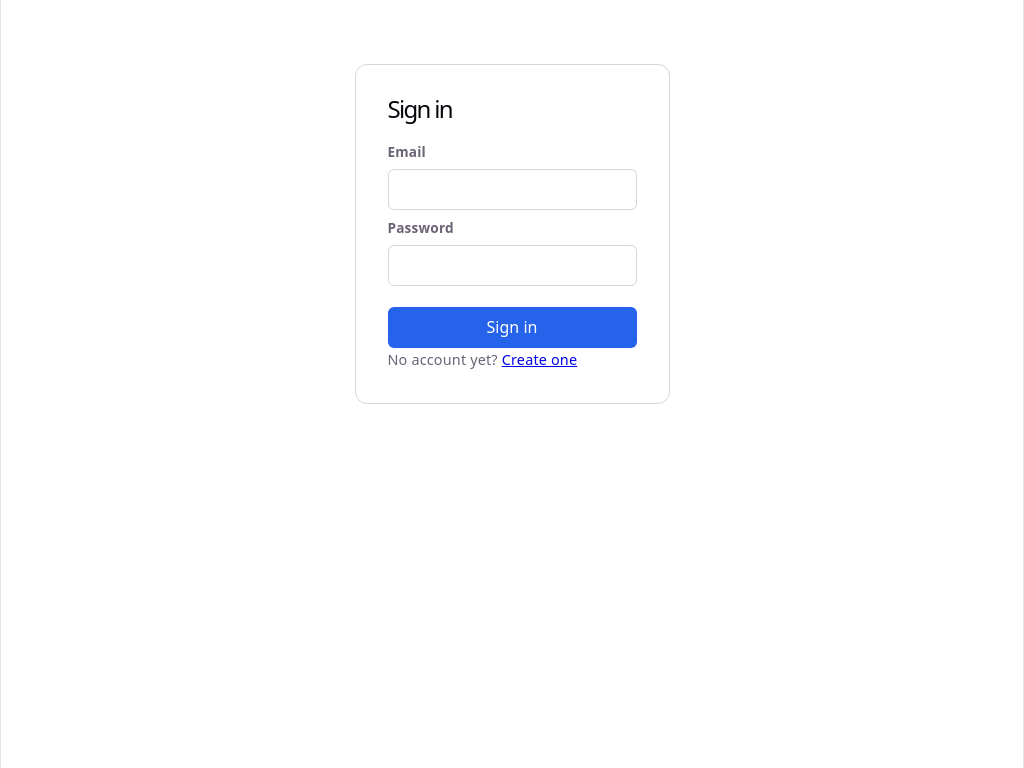
Test: signing in › lands on the account page and shows the authenticated user
Type "ada@example.com" into the field labelled "Email" at (512, 190), box x1=388 y1=169 x2=636 y2=210
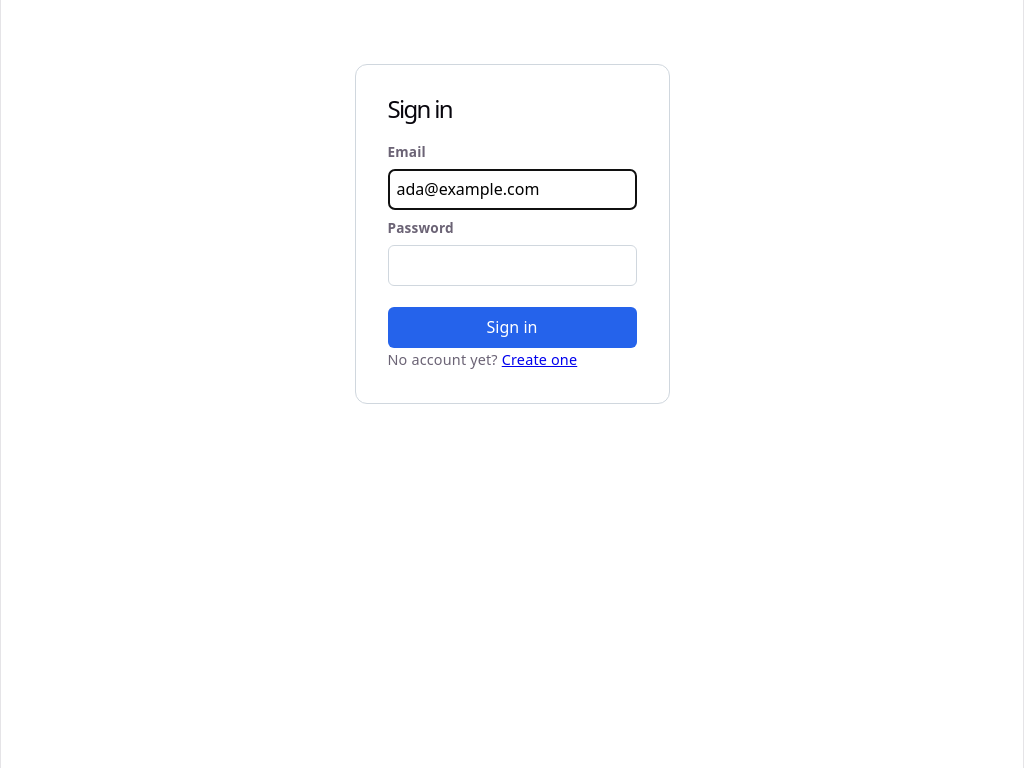
Type "super-secret-1" into the password field labelled "Password" at (512, 265), box x1=388 y1=245 x2=636 y2=286
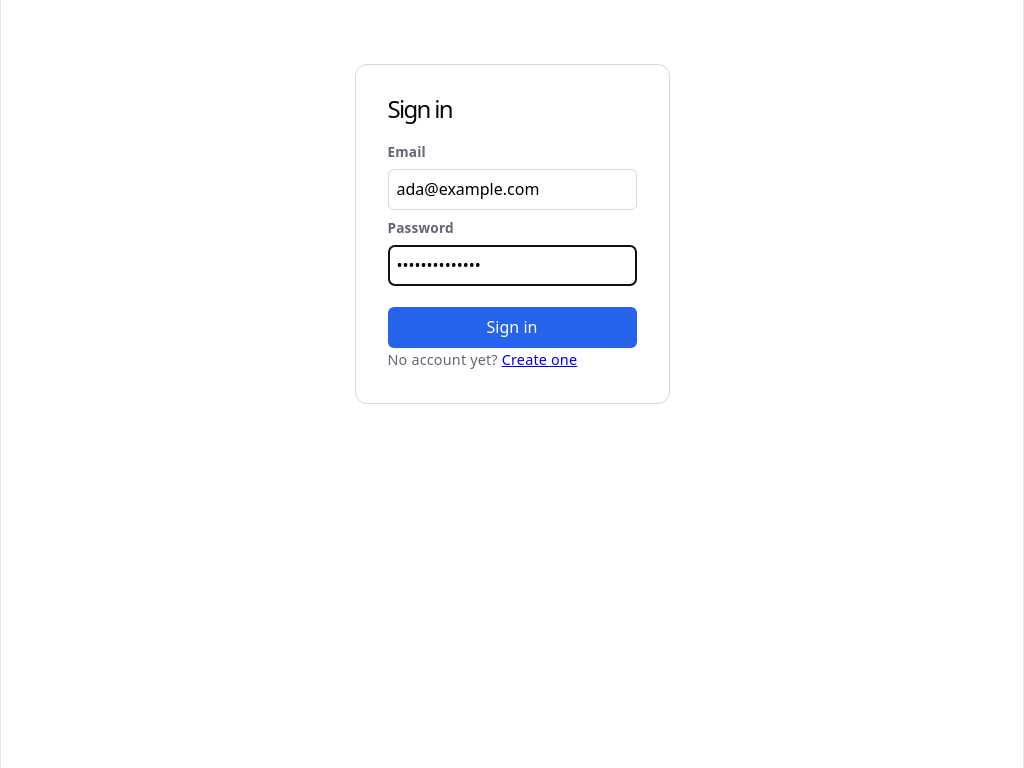
Click the button "Sign in" at (512, 328), box x1=388 y1=307 x2=636 y2=348
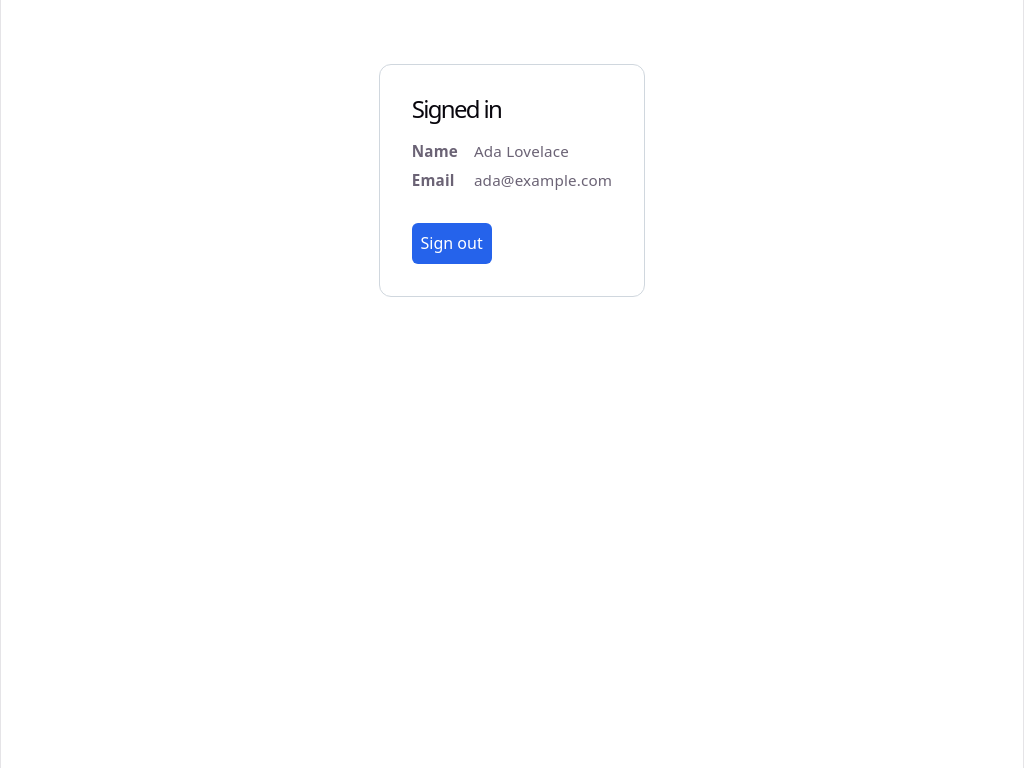
Now the heading "Signed in" is shown, box x1=412 y1=92 x2=501 y2=125
Now the text "Ada Lovelace" is shown, box x1=474 y1=141 x2=569 y2=161
